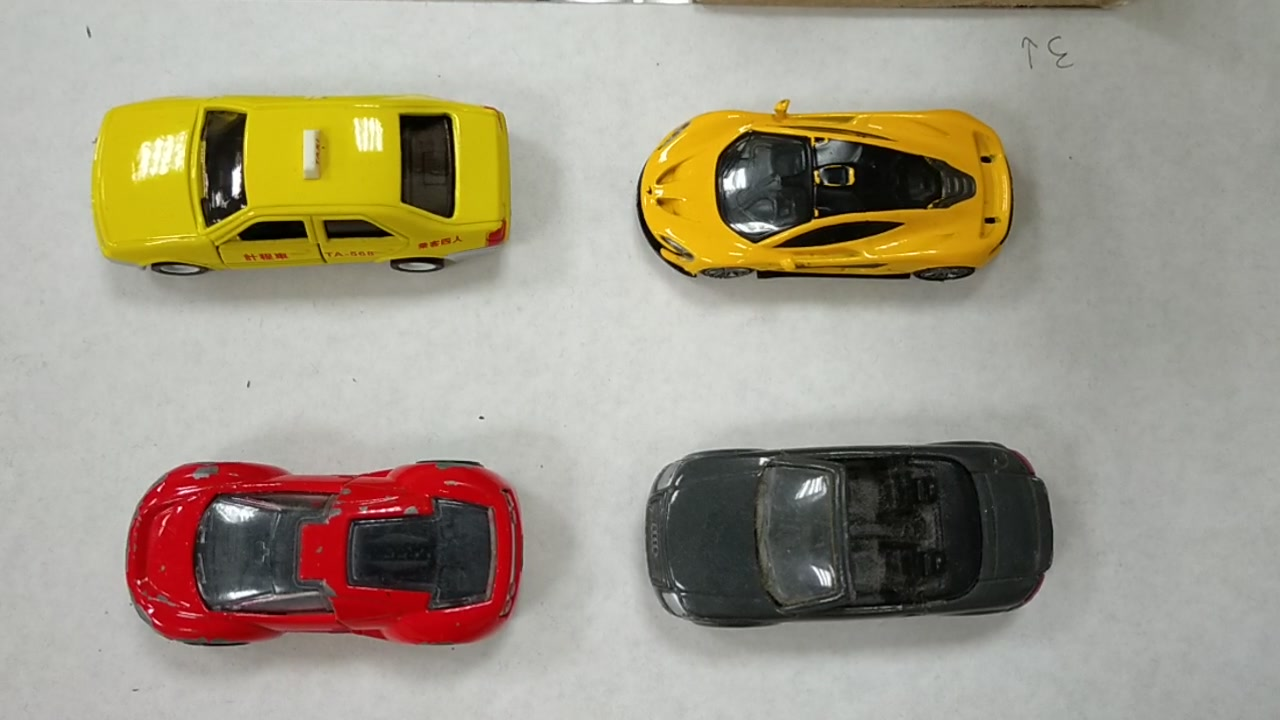car: (120, 448, 530, 659), (78, 101, 516, 284), (635, 445, 1058, 632), (630, 99, 1021, 286)
